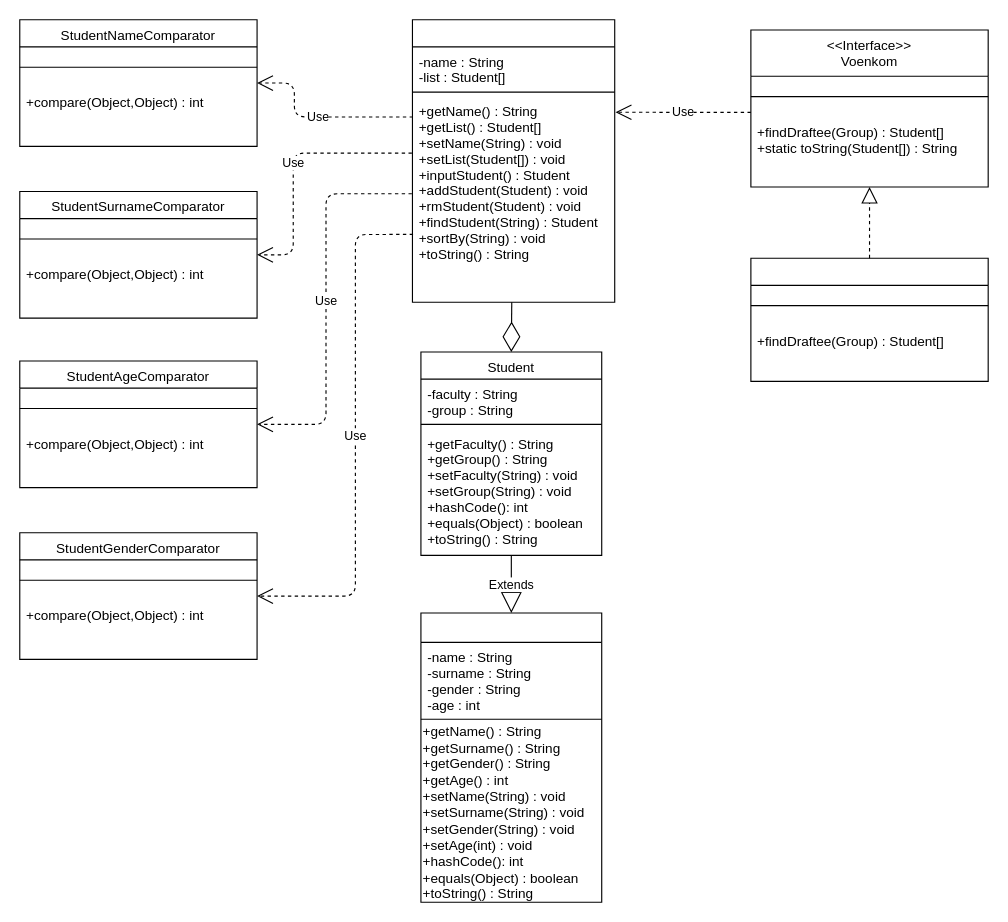
Some shapes in this 1008 by 922 pixel diagram are drawn without their labels. The shapes that lost their labels are listed below. From the top down, each one's box as (x1, y1, x2, y2) in pixels, then its label:
(411, 19, 615, 302): Group
(750, 257, 988, 381): VoenkomStudentFinder
(420, 612, 602, 902): Human
